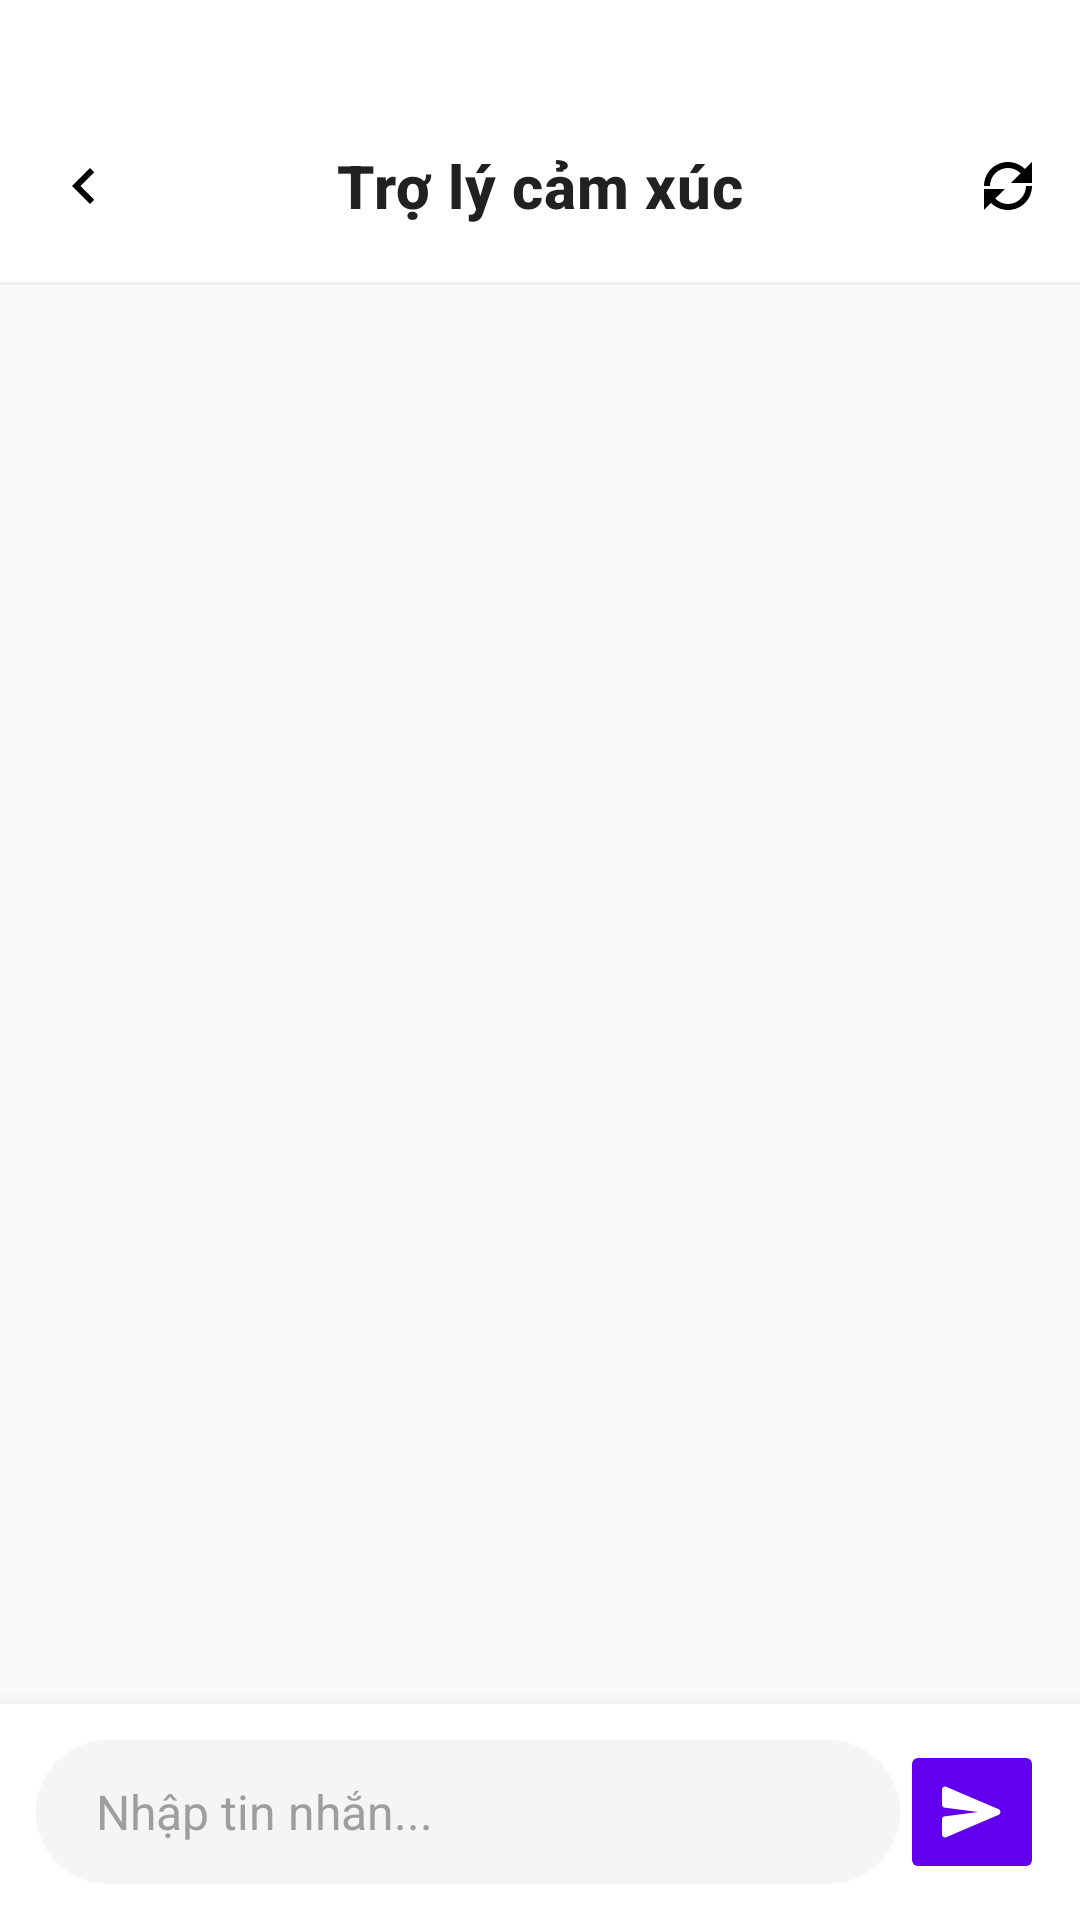

Point at icon controls on the screen. Image size 1080*1920, points as point (x, y).
Gửi tin nhắn: point (972, 1812)
